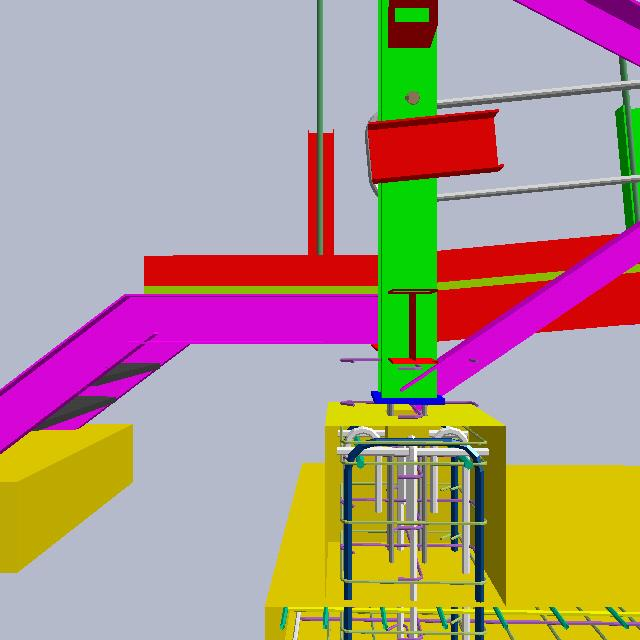Poste: (311, 1, 327, 257)
Soporte: (306, 126, 336, 301)
